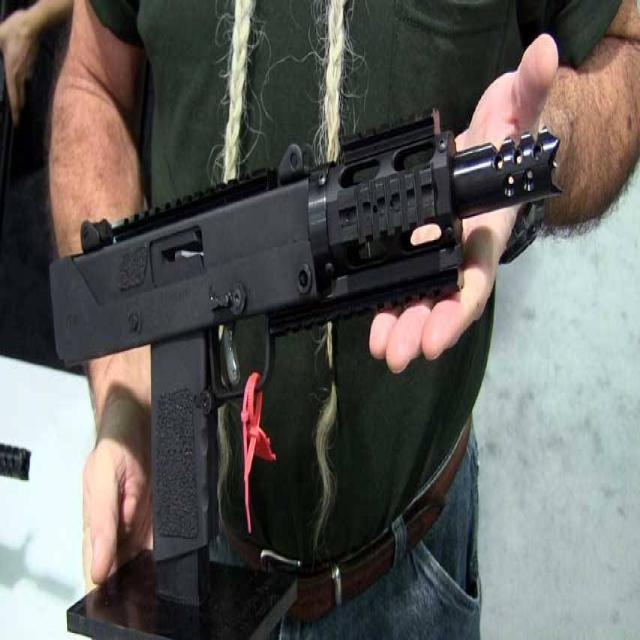firearm: (50, 104, 562, 607)
